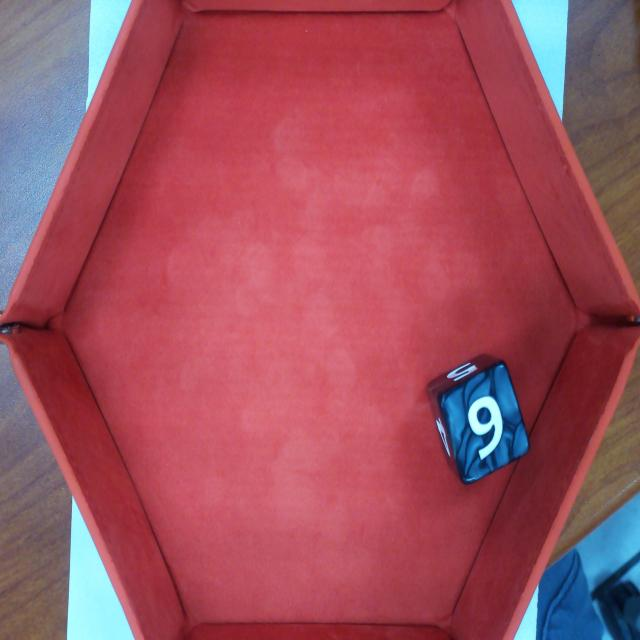dice: (435, 358, 533, 490)
